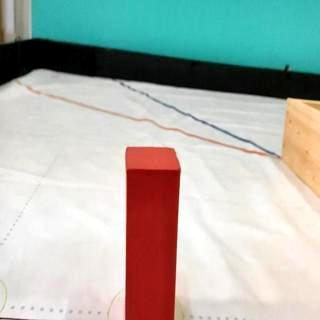redbox: (124, 144, 181, 320)
